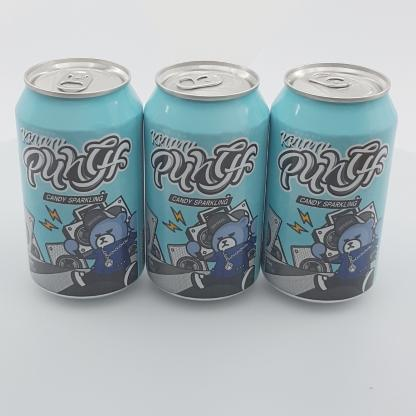-----------------350ML: (262, 62, 398, 304), (15, 57, 145, 299), (144, 60, 269, 301)
